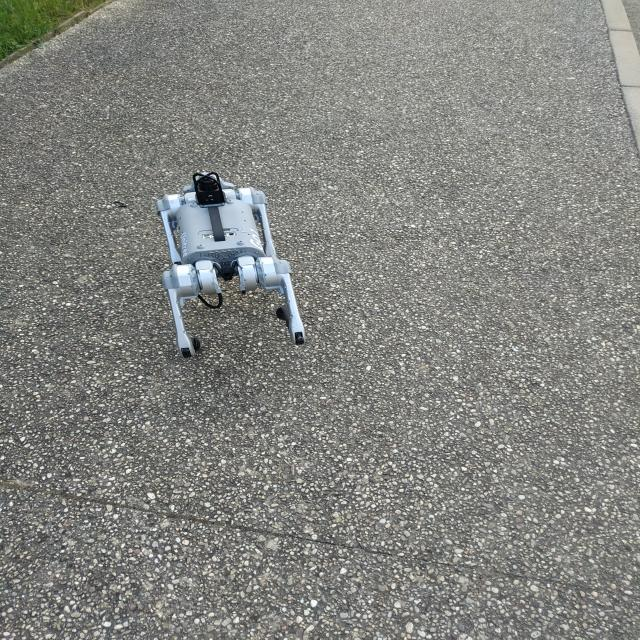unitree-go1-robot: (157, 165, 314, 356)
